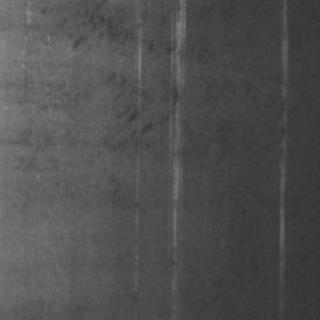scratches: (164, 0, 184, 296), (274, 1, 288, 308)
